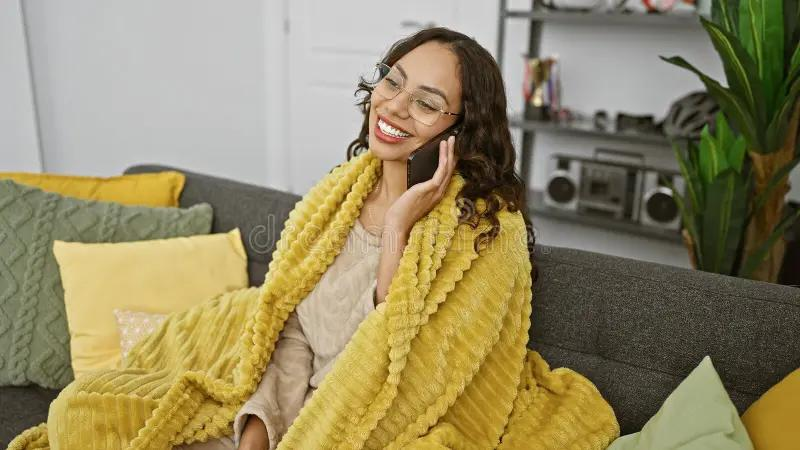blanket: (2, 147, 620, 450)
